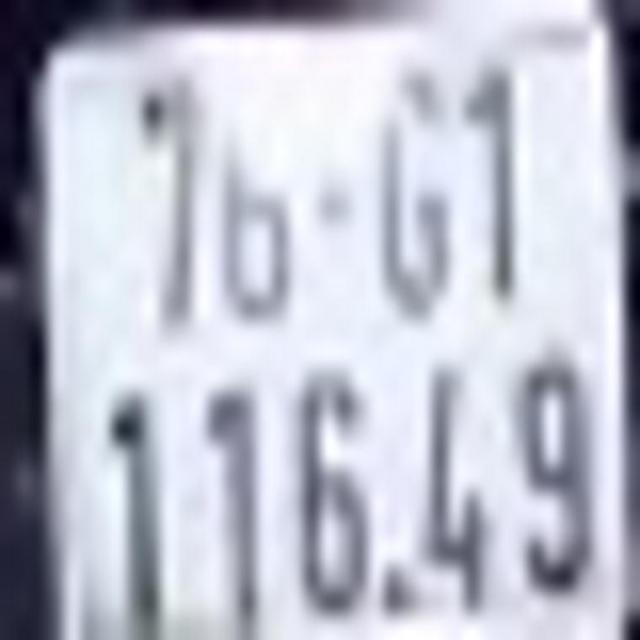1: (460, 64, 522, 332), (106, 387, 169, 639), (140, 74, 199, 329), (202, 386, 260, 637)
4: (421, 358, 490, 612)
6: (216, 71, 302, 332), (296, 363, 372, 615)
9: (517, 354, 595, 592)
G: (380, 62, 455, 324)
